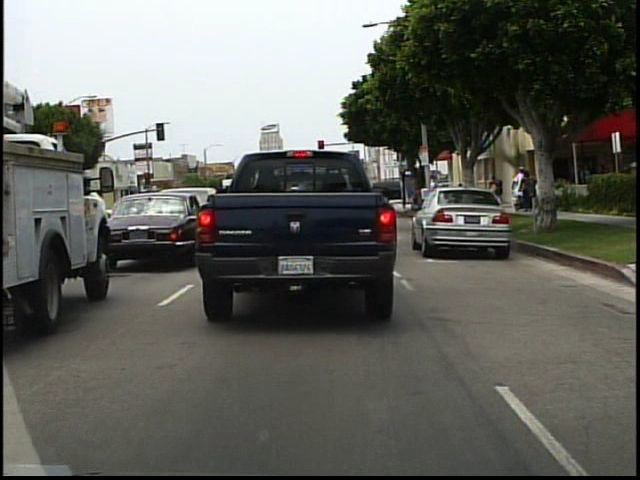person: (488, 174, 504, 210)
